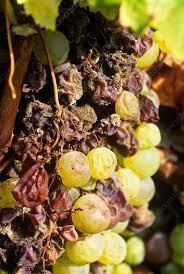Grape Rotten: (55, 150, 90, 188)
